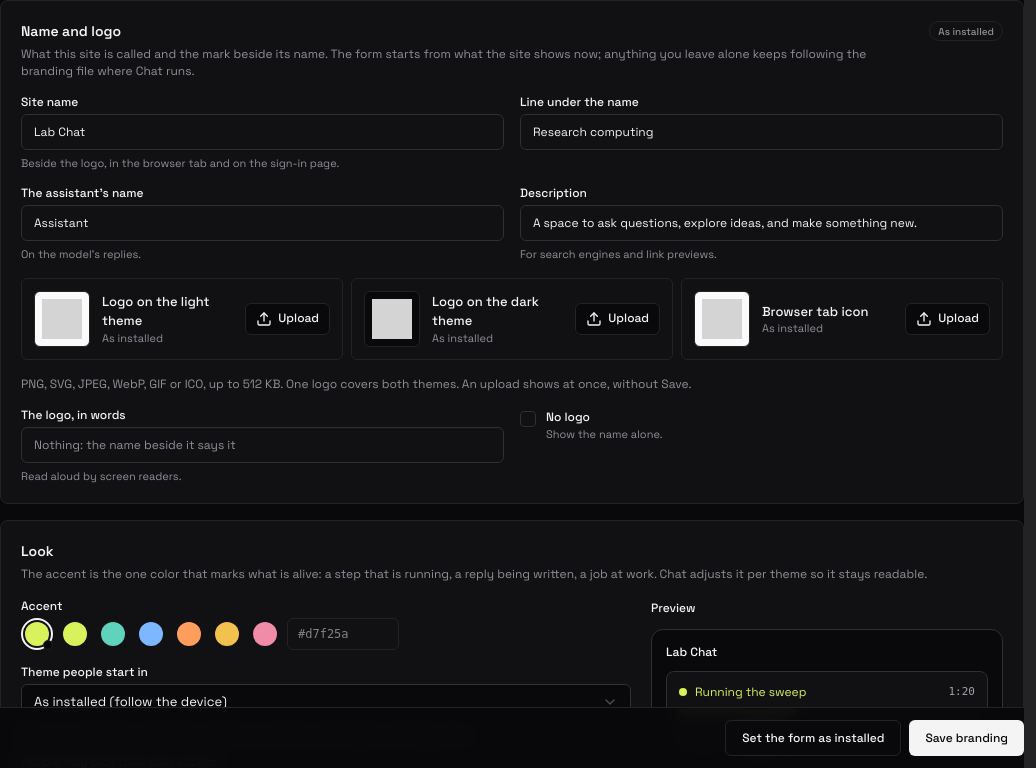
Test case: a color that is not one is not sent
The image size is (1036, 768).
Step 1. Type "teal" into the field named "Accent as a hex color" → (343, 634), box x1=287 y1=618 x2=399 y2=650
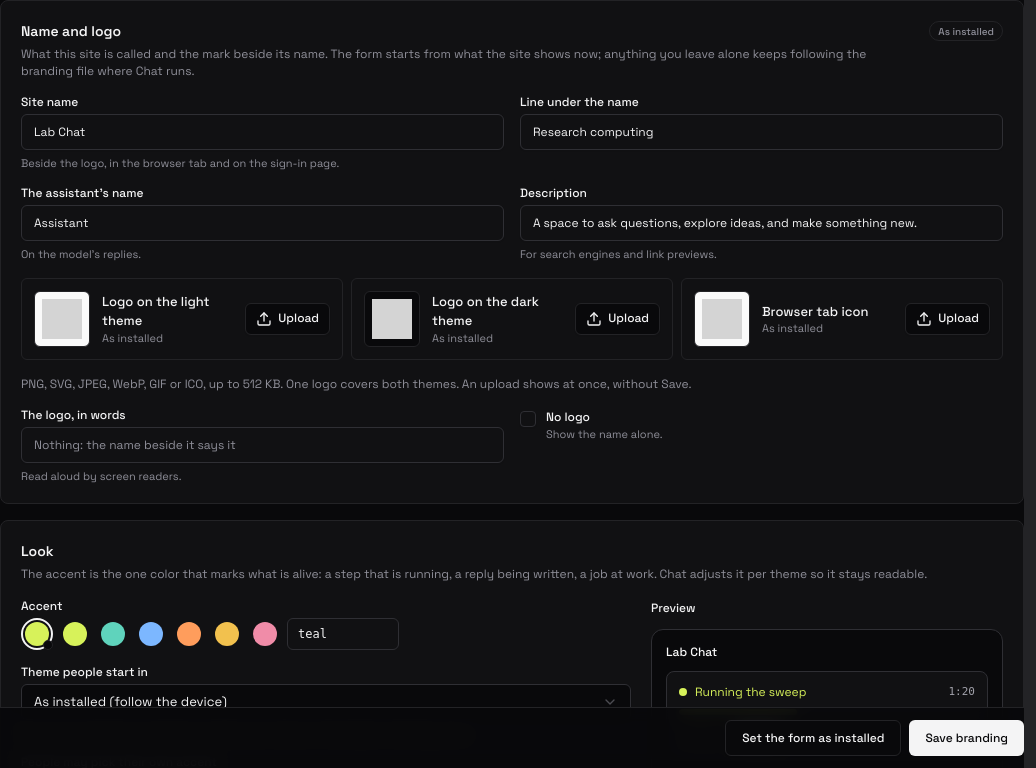
Step 2. Click the button "Save branding" → (967, 738), box x1=909 y1=720 x2=1024 y2=756
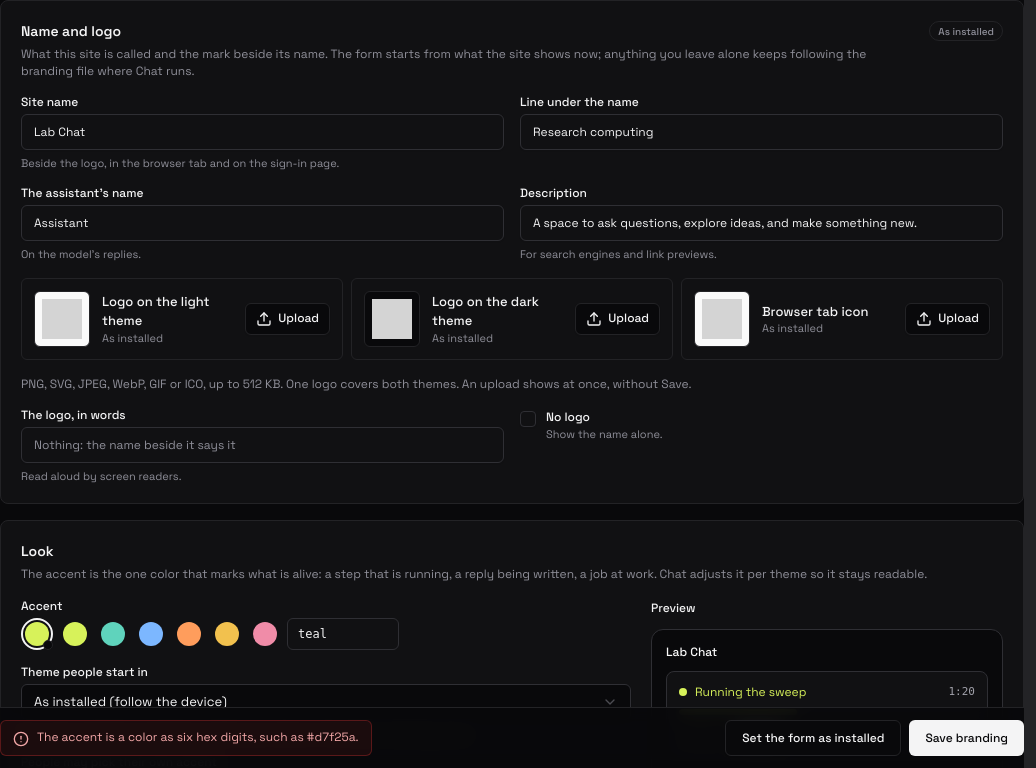
Expected: the text "The accent is a color as six hex digits, such as #d7f25a." is shown, x1=37 y1=729 x2=359 y2=746
